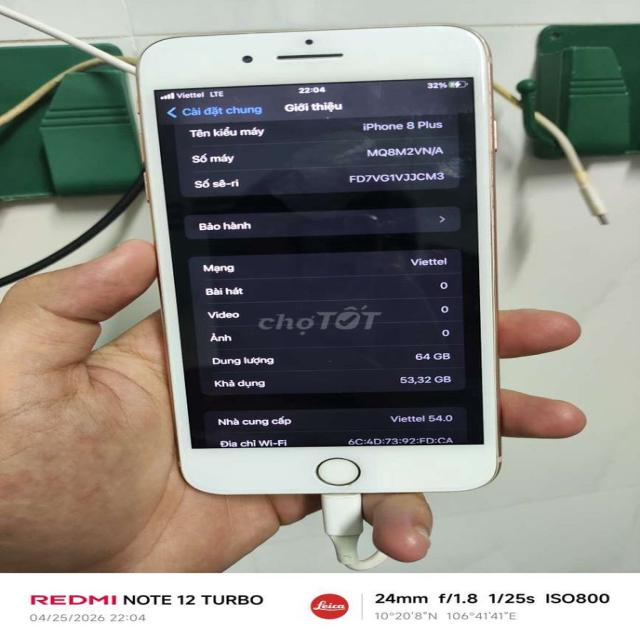gen_7_8: (127, 23, 510, 500)
